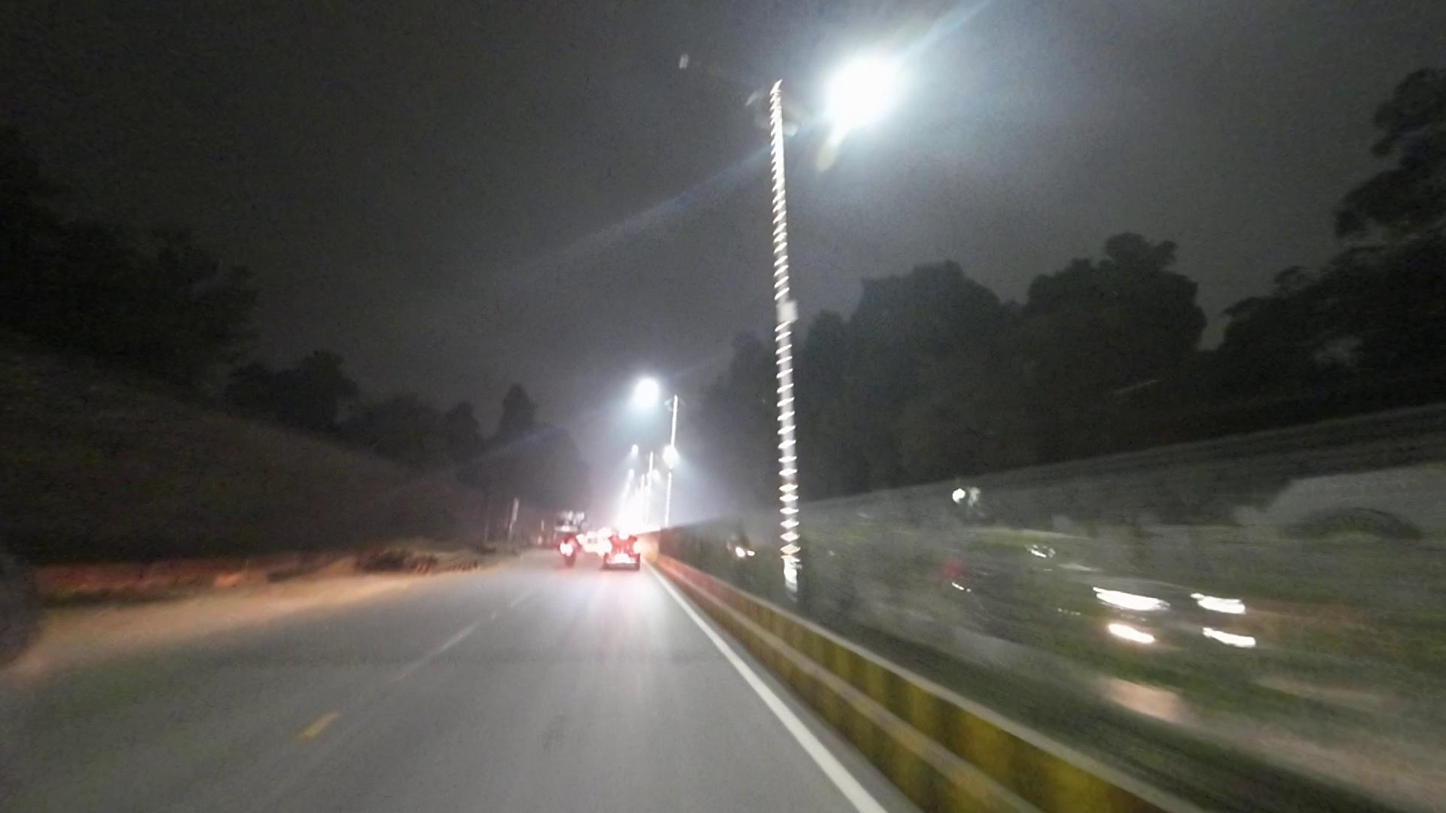streetlight: (669, 52, 756, 87)
